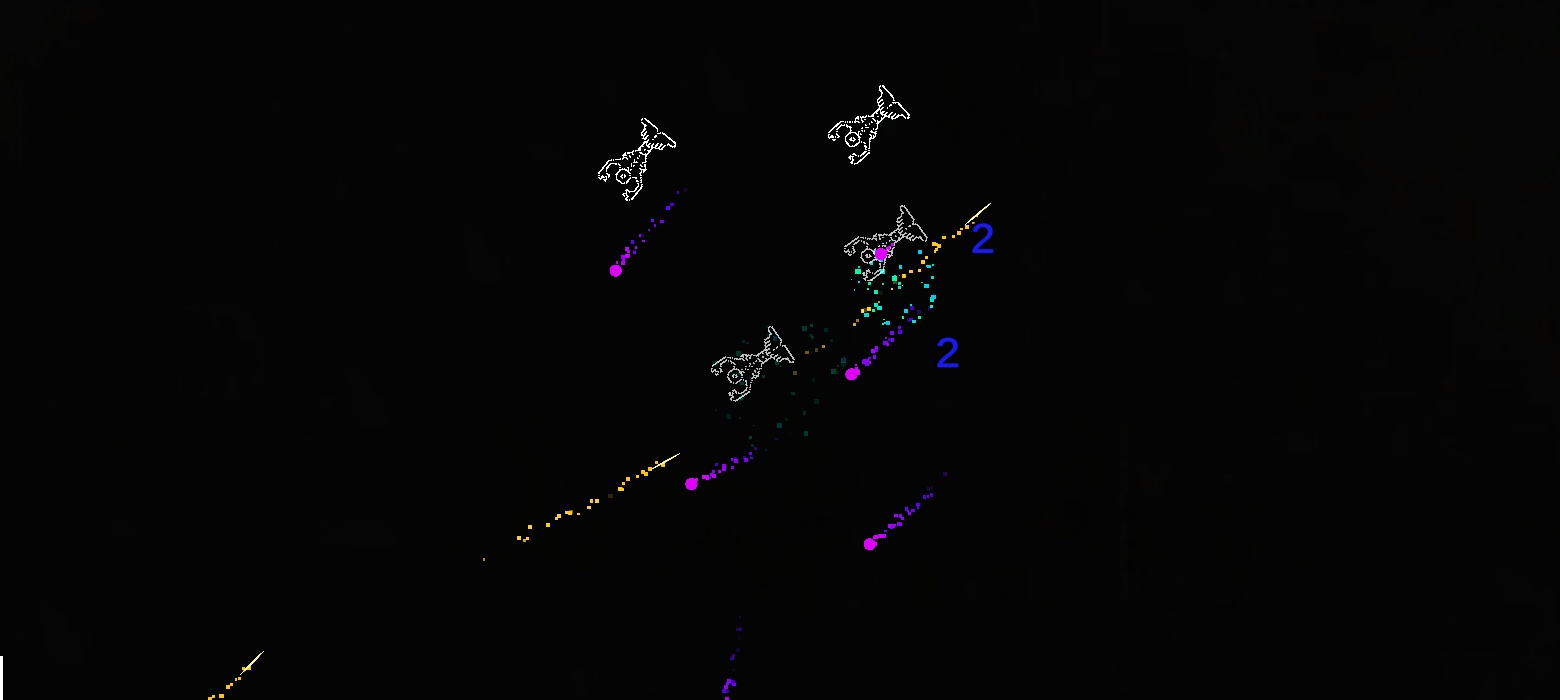enemy: (597, 118, 677, 201), (827, 85, 910, 165), (842, 205, 928, 281), (711, 325, 795, 401)
